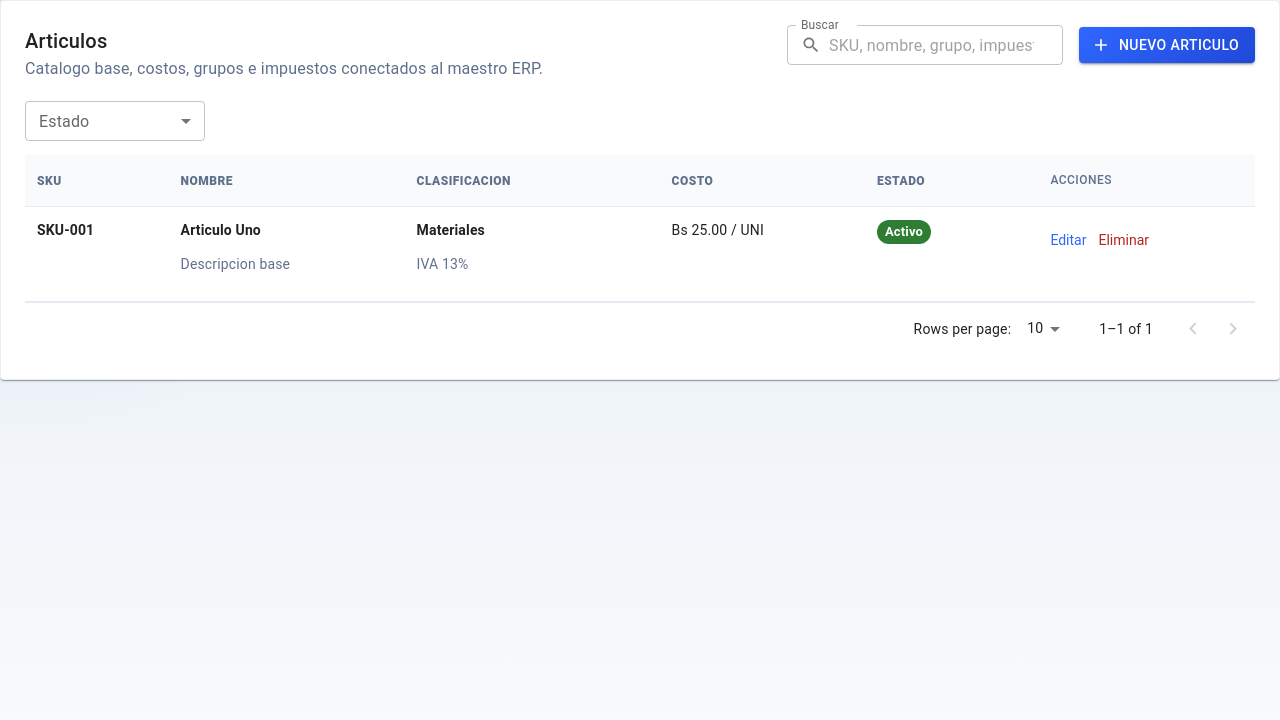
Scenario: ArticulosScreen › elimina un articulo cuando el usuario confirma y muestra error si backend falla
Click the button "Eliminar" at point(1124, 240), box [1098, 220, 1149, 260]
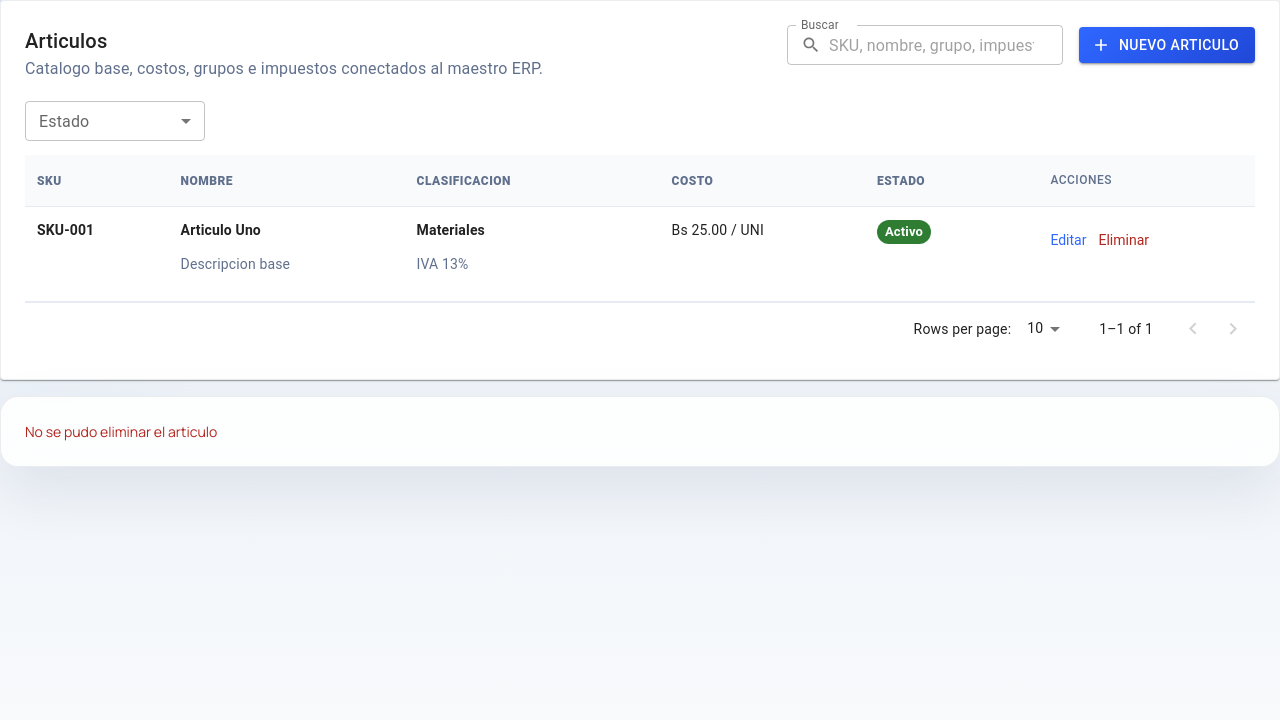
Result: the text "No se pudo eliminar el articulo" is shown at [25, 422, 217, 441]
